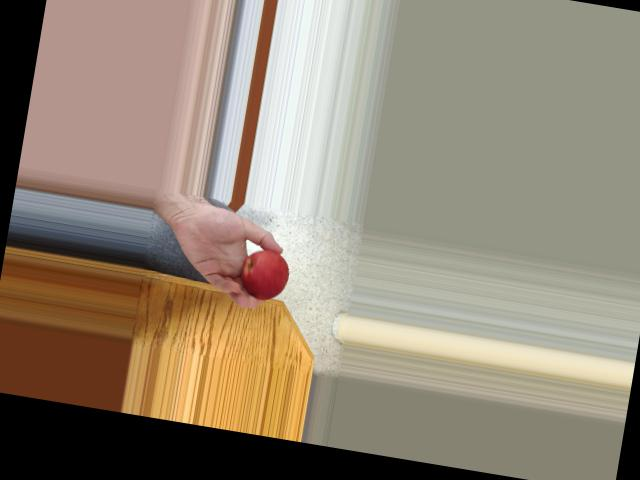apple: (233, 243, 292, 303)
